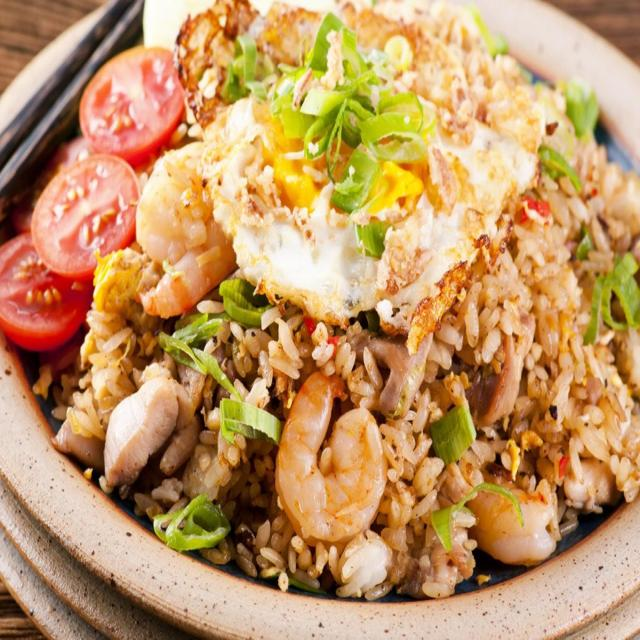Nasi Goreng: (4, 1, 637, 603), (99, 67, 640, 598)
